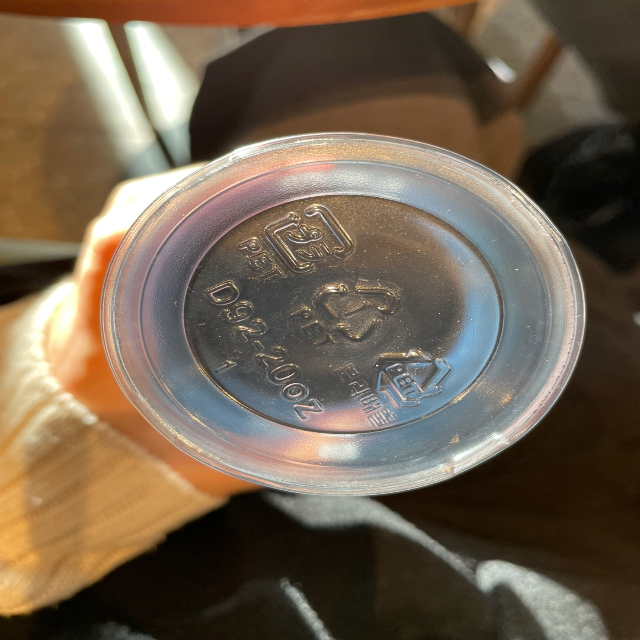pet: (328, 344, 449, 429), (238, 202, 357, 288), (290, 276, 403, 354)
